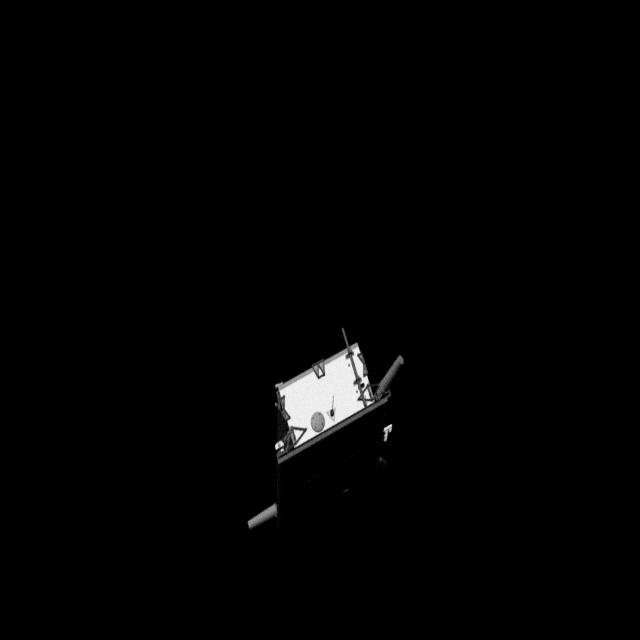satellite: (228, 316, 410, 536)
